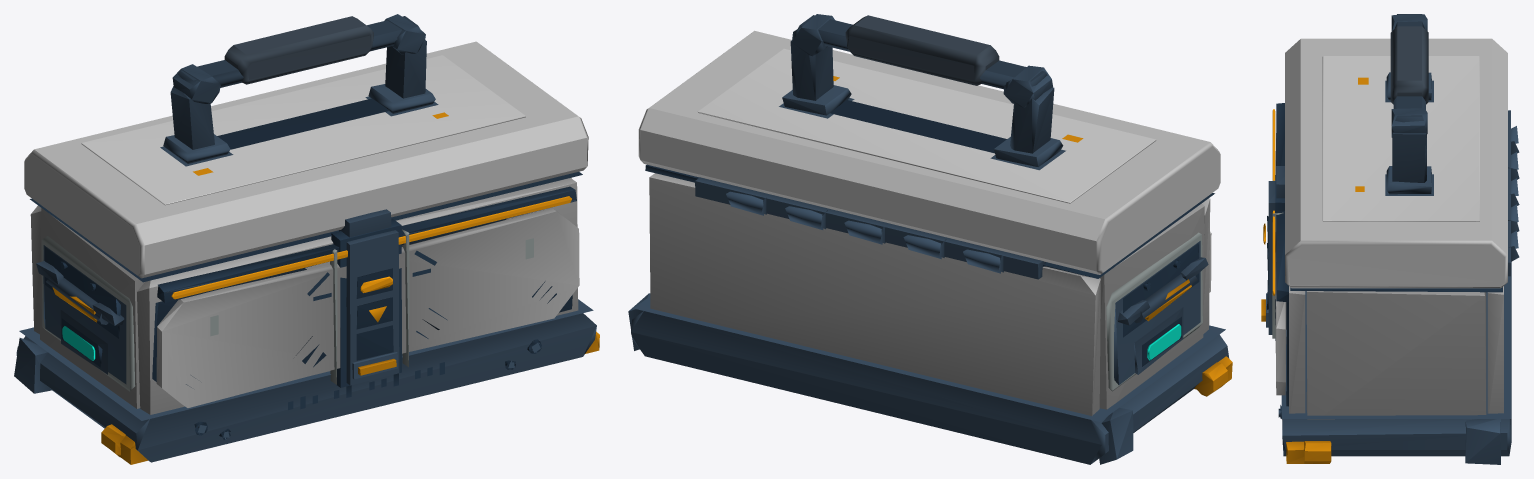
Rendered from caisse-outils.glb.
The picture shows the model from 3 angles, left to right: view 1: azimuth 30°, elevation 25°; view 2: azimuth 150°, elevation 25°; view 3: azimuth 270°, elevation 25°; orthographic projection. The views are drawn at different scales.
Visible parts, largest first — view 1: corps__gris_clair, lid_hinge__gris_clair, corps__bleu_nuit, lid_hinge__gris_clair2, corps__bleu_nuit2, lid_hinge__bleu_nuit, corps__bleu_fonce, lid_hinge__bleu_nuit4, lid_hinge__bleu_nuit2, corps__gris, corps__lum_orange, corps__orange; view 2: corps__gris_clair, lid_hinge__gris_clair, corps__bleu_nuit, lid_hinge__gris_clair2, corps__bleu_fonce, lid_hinge__bleu_nuit, lid_hinge__bleu_nuit4, lid_hinge__bleu_nuit2, corps__gris, corps__bleu_nuit2, corps__orange; view 3: lid_hinge__gris_clair, corps__gris_clair, lid_hinge__gris_clair2, corps__bleu_nuit, corps__bleu_fonce, lid_hinge__bleu_nuit, lid_hinge__bleu_nuit4, corps__bleu_nuit2, corps__orange, lid_hinge__bleu_nuit2, corps__lum_orange, lid_hinge__bleu_fonce (+1 smaller).
Part boxes in pixels (x1,y1,x2,y2): corps__gris_clair: (30,177,579,414); lid_hinge__gris_clair: (24,41,588,278); corps__bleu_nuit: (16,209,596,462); lid_hinge__gris_clair2: (81,55,525,205); corps__bleu_nuit2: (45,186,576,439); lid_hinge__bleu_nuit: (163,14,435,163); corps__bleu_fonce: (14,200,593,439); lid_hinge__bleu_nuit4: (224,16,373,84); lid_hinge__bleu_nuit2: (30,98,582,282); corps__gris: (41,229,533,391); corps__lum_orange: (171,196,571,322); corps__orange: (52,287,599,464); corps__gris_clair: (649,173,1211,415); lid_hinge__gris_clair: (638,30,1220,274); corps__bleu_nuit: (631,177,1229,464); lid_hinge__gris_clair2: (698,48,1156,203); corps__bleu_fonce: (628,191,1225,464); lid_hinge__bleu_nuit: (782,14,1063,166); lid_hinge__bleu_nuit4: (845,15,999,85); lid_hinge__bleu_nuit2: (645,100,1214,278); corps__gris: (1106,232,1202,391); corps__bleu_nuit2: (1123,243,1199,366); corps__orange: (1145,279,1232,396); lid_hinge__gris_clair: (1285,38,1507,288); corps__gris_clair: (1275,133,1503,419); lid_hinge__gris_clair2: (1322,56,1479,221); corps__bleu_nuit: (1268,110,1511,456); corps__bleu_fonce: (1266,126,1519,464); lid_hinge__bleu_nuit: (1386,14,1431,194); lid_hinge__bleu_nuit4: (1390,26,1428,104); corps__bleu_nuit2: (1267,103,1288,418); corps__orange: (1261,299,1331,463); lid_hinge__bleu_nuit2: (1290,287,1502,292); corps__lum_orange: (1263,109,1275,295); lid_hinge__bleu_fonce: (1385,80,1433,195).
Bounding box in the file's own units: 0.6881 × 0.4478 × 0.3422.
